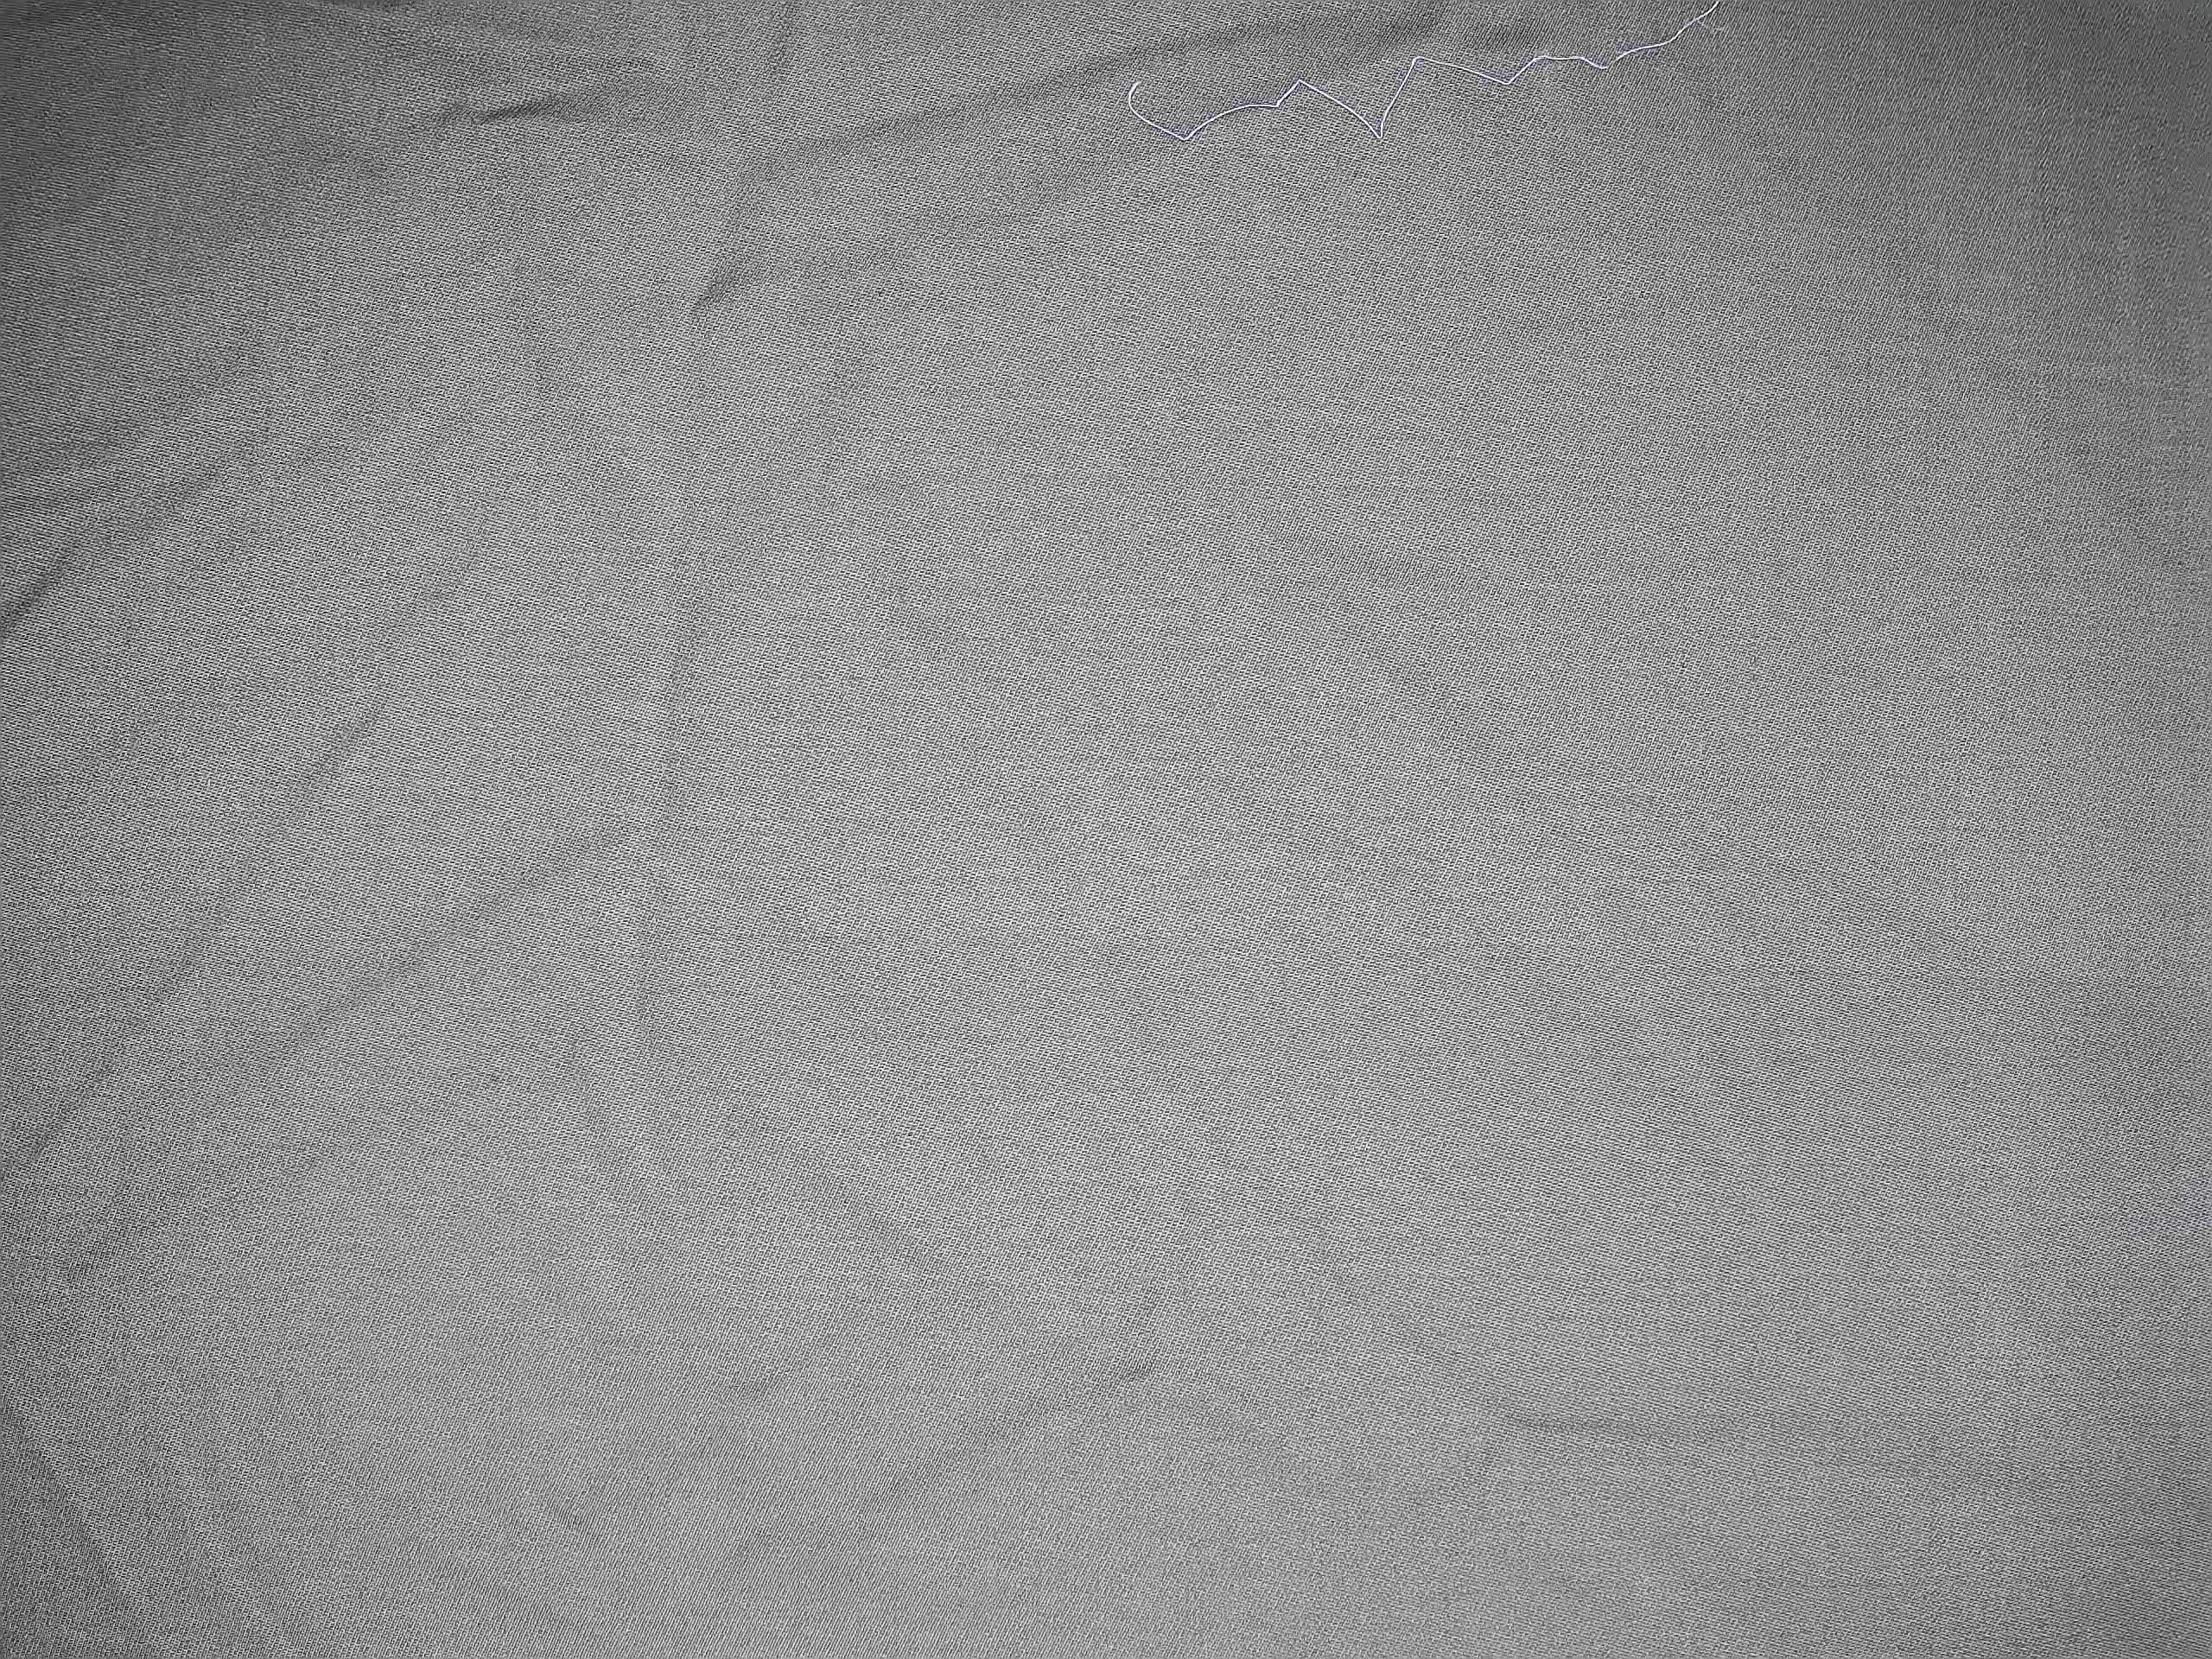others: (26, 918, 2202, 1089)
